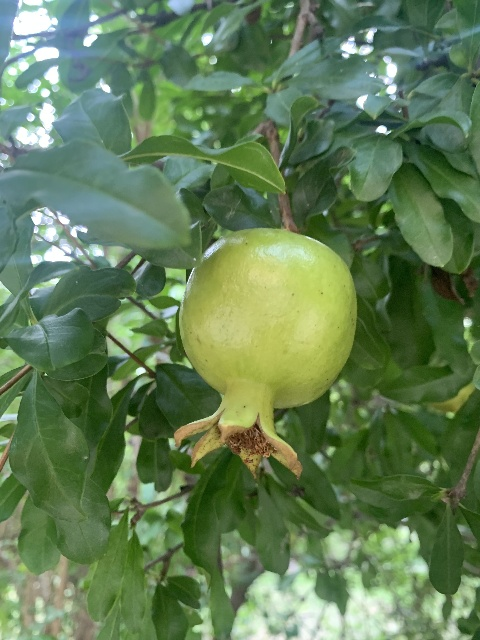mid-growth: (171, 227, 357, 483)
